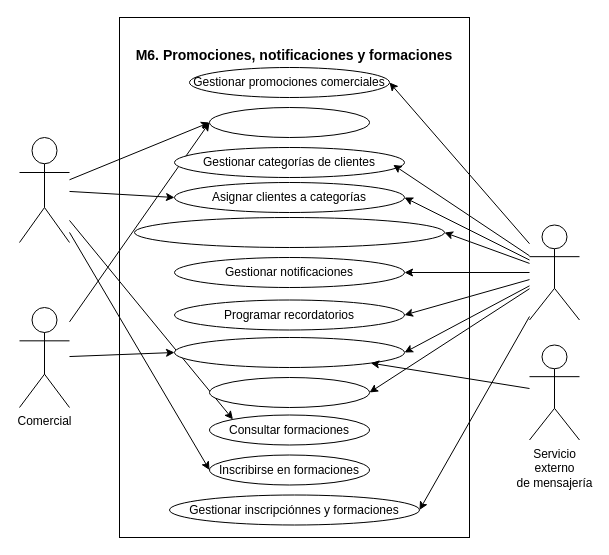
This 609x555 diagram has some shape labels left out. Here are the shapes that lost their labels. From the top down, the box of each, then its label:
(208, 106, 370, 138): Consultar promociones
(18, 136, 70, 242): Cliente
(134, 216, 444, 248): Asociar promociones a categorías de clientes
(528, 224, 580, 320): Admin
(174, 336, 404, 368): Enviar notificaciones por canal externo
(208, 376, 370, 408): Gestionar formaciones
